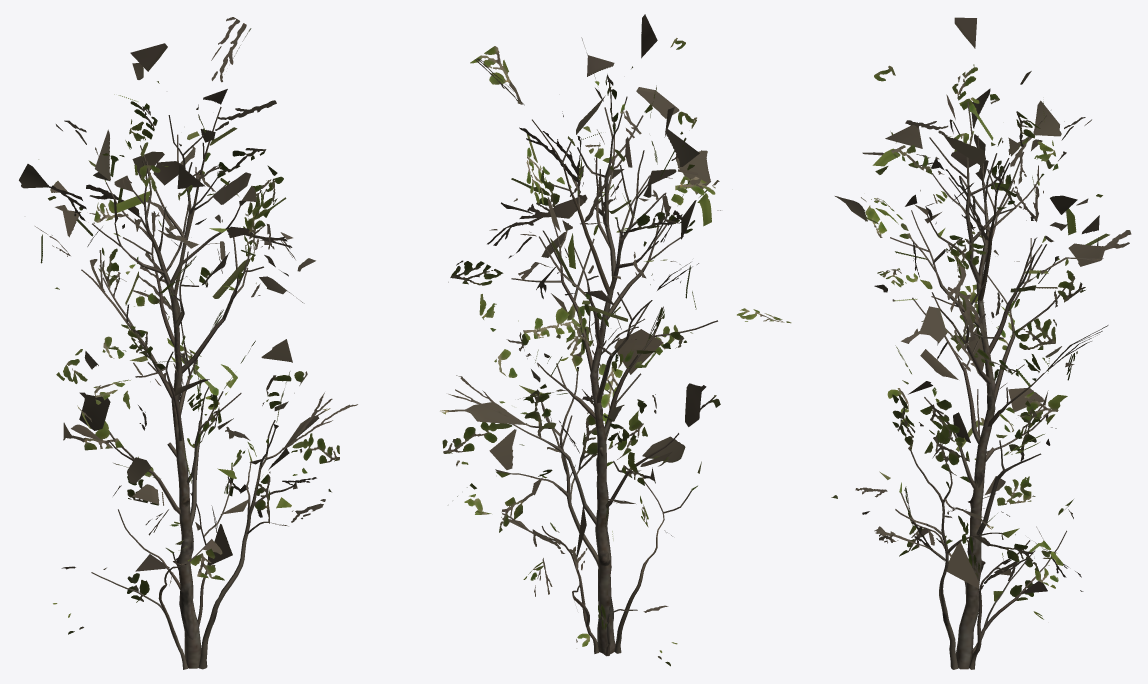
File: SM_BlackAlder_Forest_07_PP_LOD4.gltf
3 renders of one model, left to right at view 1: azimuth 30°, elevation 25°; view 2: azimuth 150°, elevation 25°; view 3: azimuth 270°, elevation 25°, orthographic.
Parts seen in each view (by area): view 1: SM_BlackAlder_Forest_07_PP; view 2: SM_BlackAlder_Forest_07_PP; view 3: SM_BlackAlder_Forest_07_PP.
Boxes of the visible parts, x1=… form: SM_BlackAlder_Forest_07_PP: x1=19, y1=17, x2=357, y2=669; SM_BlackAlder_Forest_07_PP: x1=440, y1=14, x2=791, y2=666; SM_BlackAlder_Forest_07_PP: x1=831, y1=17, x2=1131, y2=669.
Size of the model in its own units: 4.48 by 8.26 by 3.65.
Materials: 3 (3 with a texture image).
